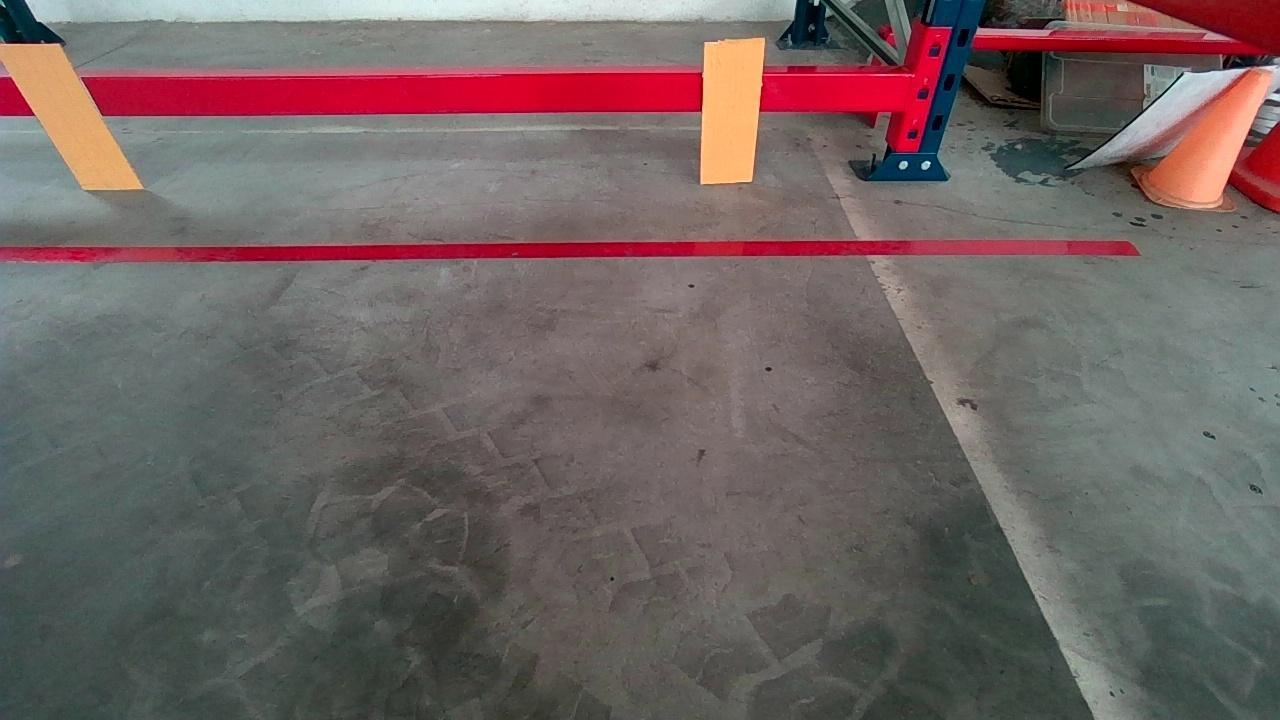h_rack: (7, 71, 910, 118)
orange_strip: (0, 47, 143, 191), (701, 39, 762, 183)
red_line: (5, 233, 1116, 268)
